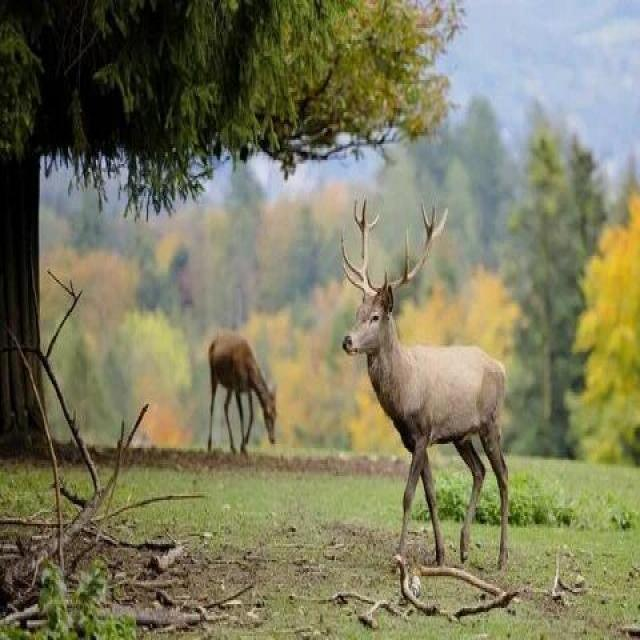deer: (330, 227, 538, 552), (182, 277, 304, 475)
